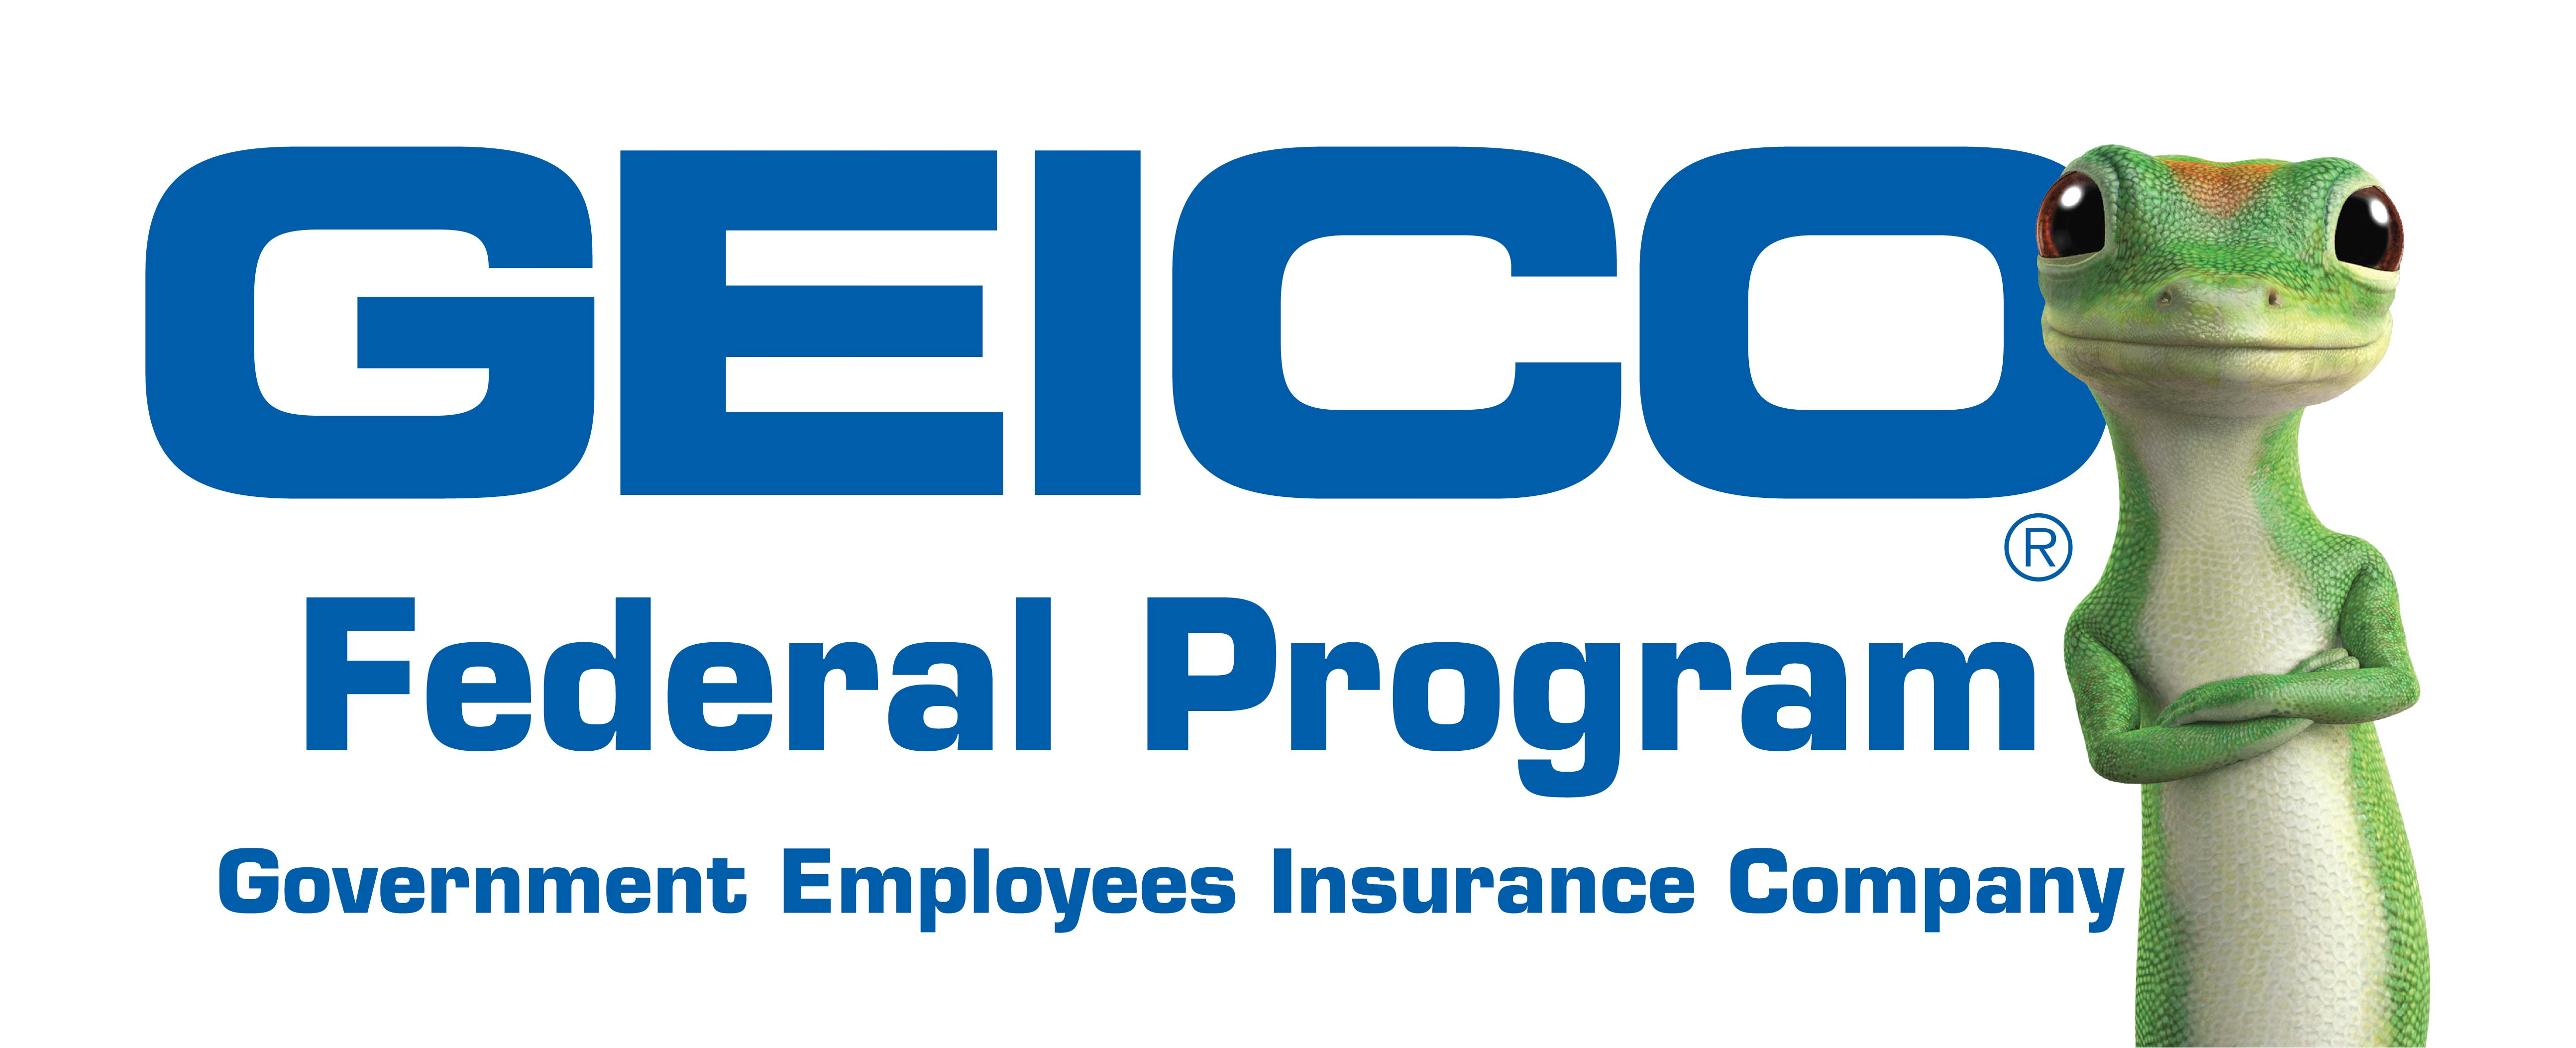Geico: (118, 85, 2062, 532)
